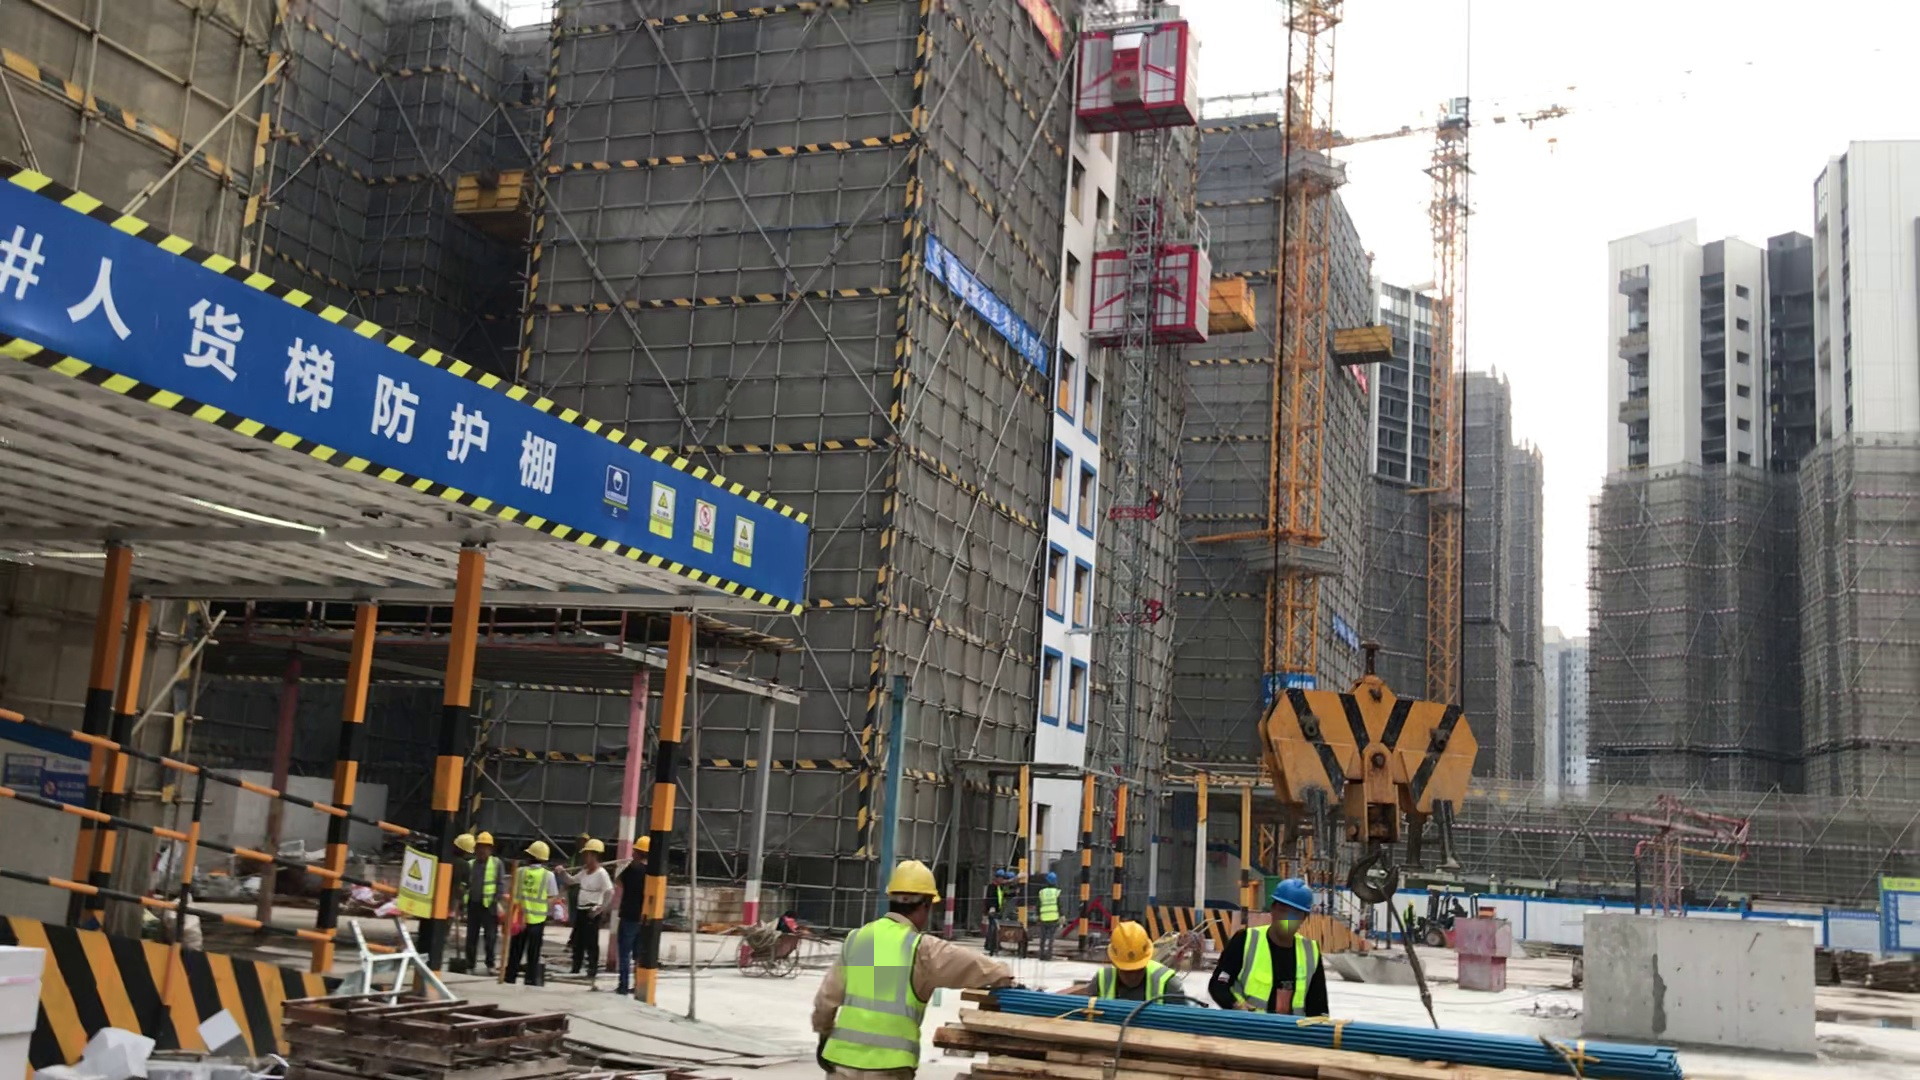helmet: (1107, 918, 1155, 973), (885, 861, 940, 900), (1268, 877, 1319, 916), (525, 839, 549, 863), (630, 832, 652, 854), (457, 833, 479, 854), (581, 838, 605, 855), (476, 828, 494, 848), (1045, 872, 1057, 884)
person: (818, 858, 966, 1080), (1225, 880, 1327, 1016), (1078, 913, 1182, 1001), (450, 824, 508, 967), (564, 837, 614, 991), (615, 833, 653, 995), (516, 836, 555, 986), (1038, 868, 1062, 961), (982, 864, 1017, 919)
vest: (827, 921, 926, 1066), (1239, 927, 1316, 1017), (1092, 968, 1173, 1002), (516, 868, 550, 923), (479, 854, 501, 909), (1037, 888, 1059, 921)
